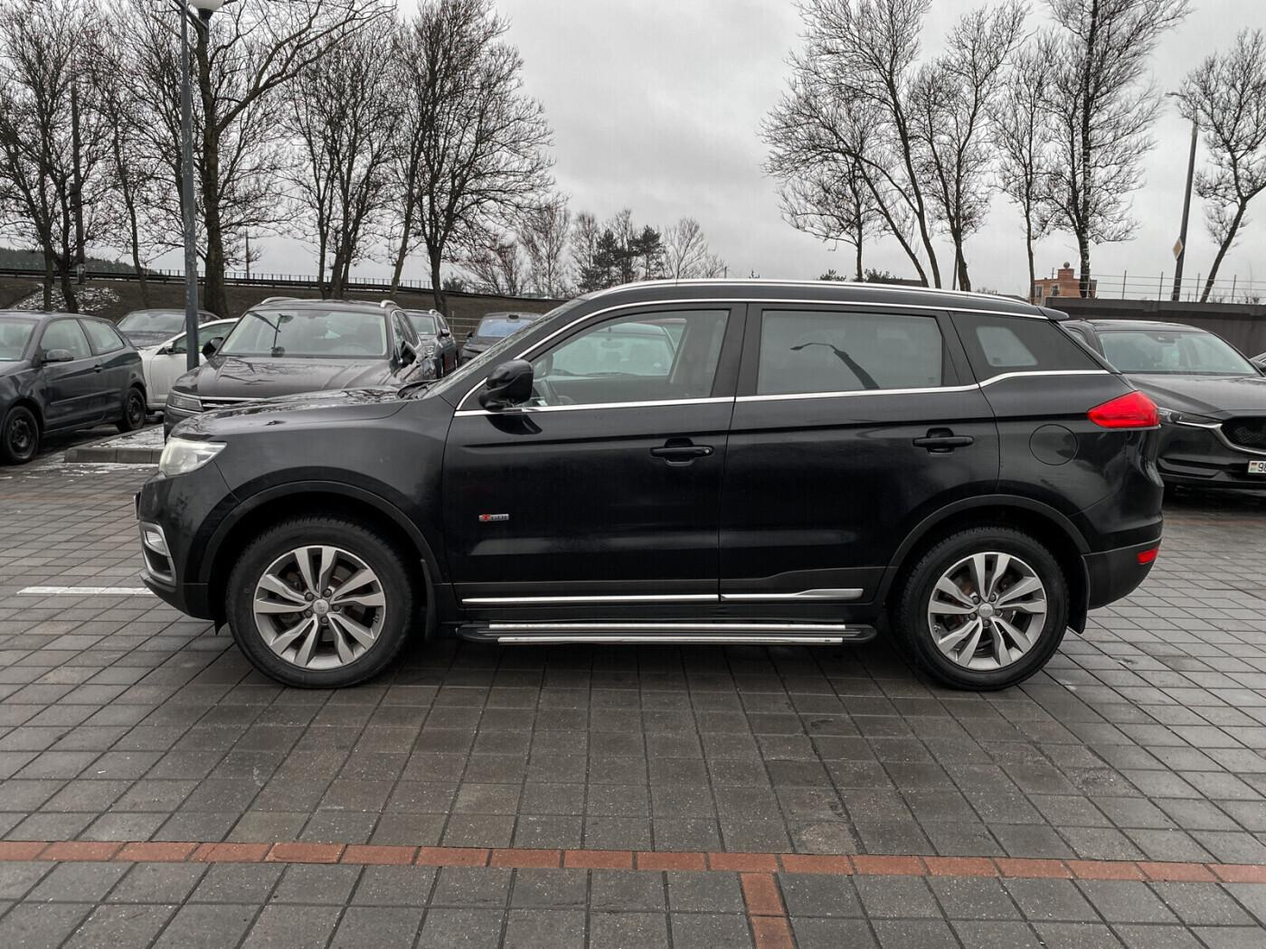Atlas_2016-2023: (134, 263, 1177, 699)
